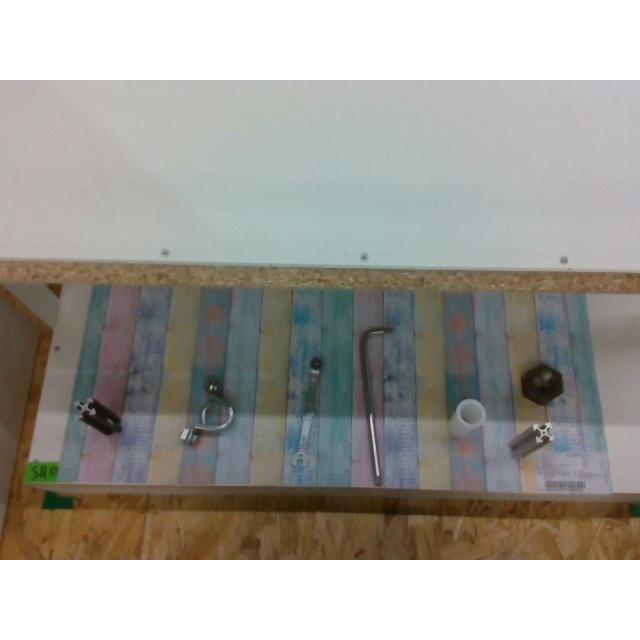AllenKey: (359, 326, 391, 484)
F20_20_B: (76, 398, 120, 434)
F20_20_G: (506, 420, 554, 456)
Housing: (180, 382, 232, 442)
M30: (522, 363, 562, 403)
Spacer: (450, 398, 486, 434)
Wrench: (292, 354, 326, 468)
